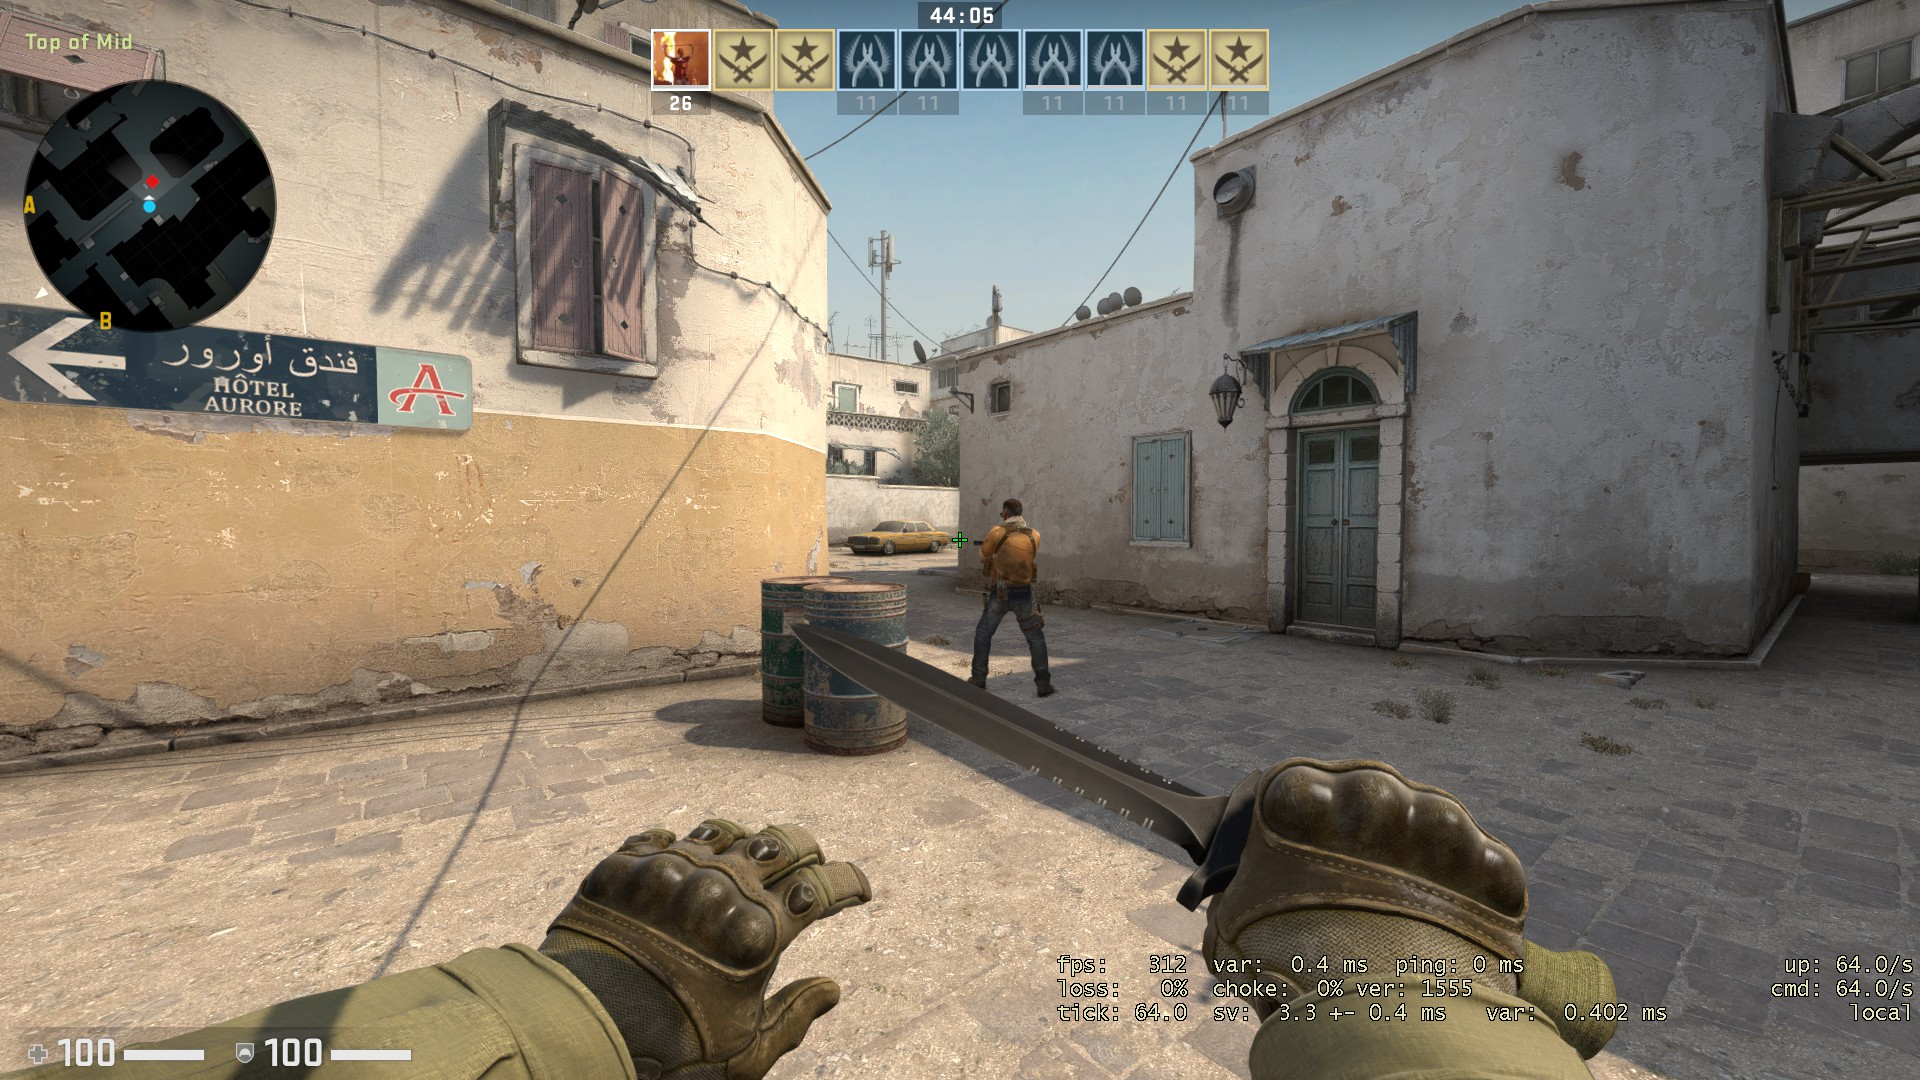player: (965, 495, 1062, 698)
